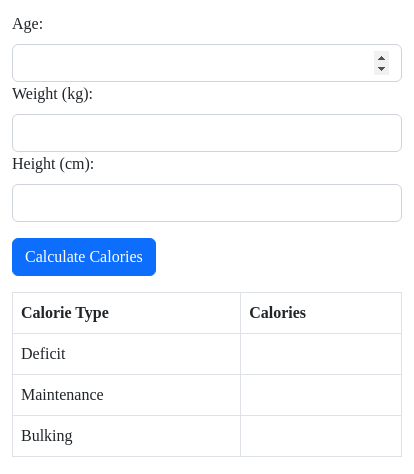
Scenario: CalorieCalculator › calculates calories correctly
The width and height of the screenshot is (414, 474).
# Fill in the form with some test data
Type "30" into the number field labelled "Age:".
click(207, 63); type("30")  # box [12,44,402,82]
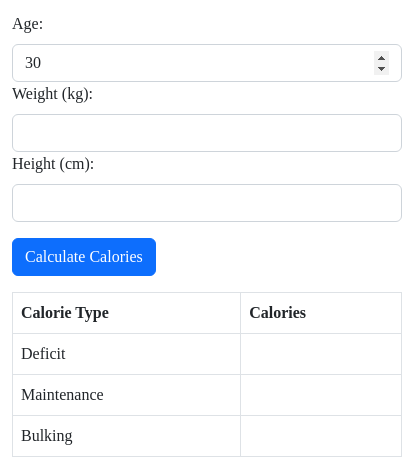
Type "70" into the number field labelled "Weight (kg):".
click(207, 133); type("70")  # box [12,114,402,152]
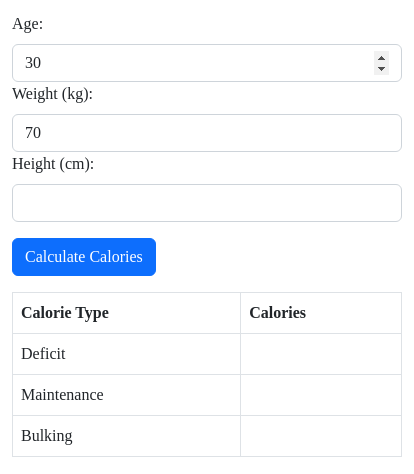
Type "170" into the number field labelled "Height (cm):".
click(207, 203); type("170")  # box [12,184,402,222]
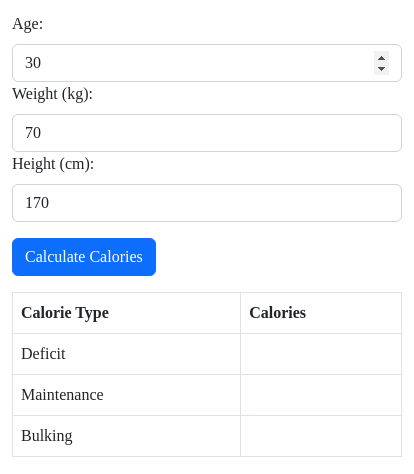
# Submit the form
Click the button "Calculate Calories".
click(84, 257)  # box [12,238,156,276]
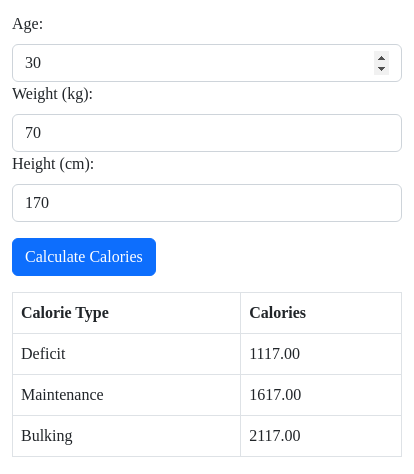
Check: the cell with test id "deficit" reads "1117.00", box [249,345,300,362]
Check: the cell with test id "maintenance" reads "1617.00", box [249,386,301,403]
Check: the cell with test id "bulking" reads "2117.00", box [249,427,301,444]
